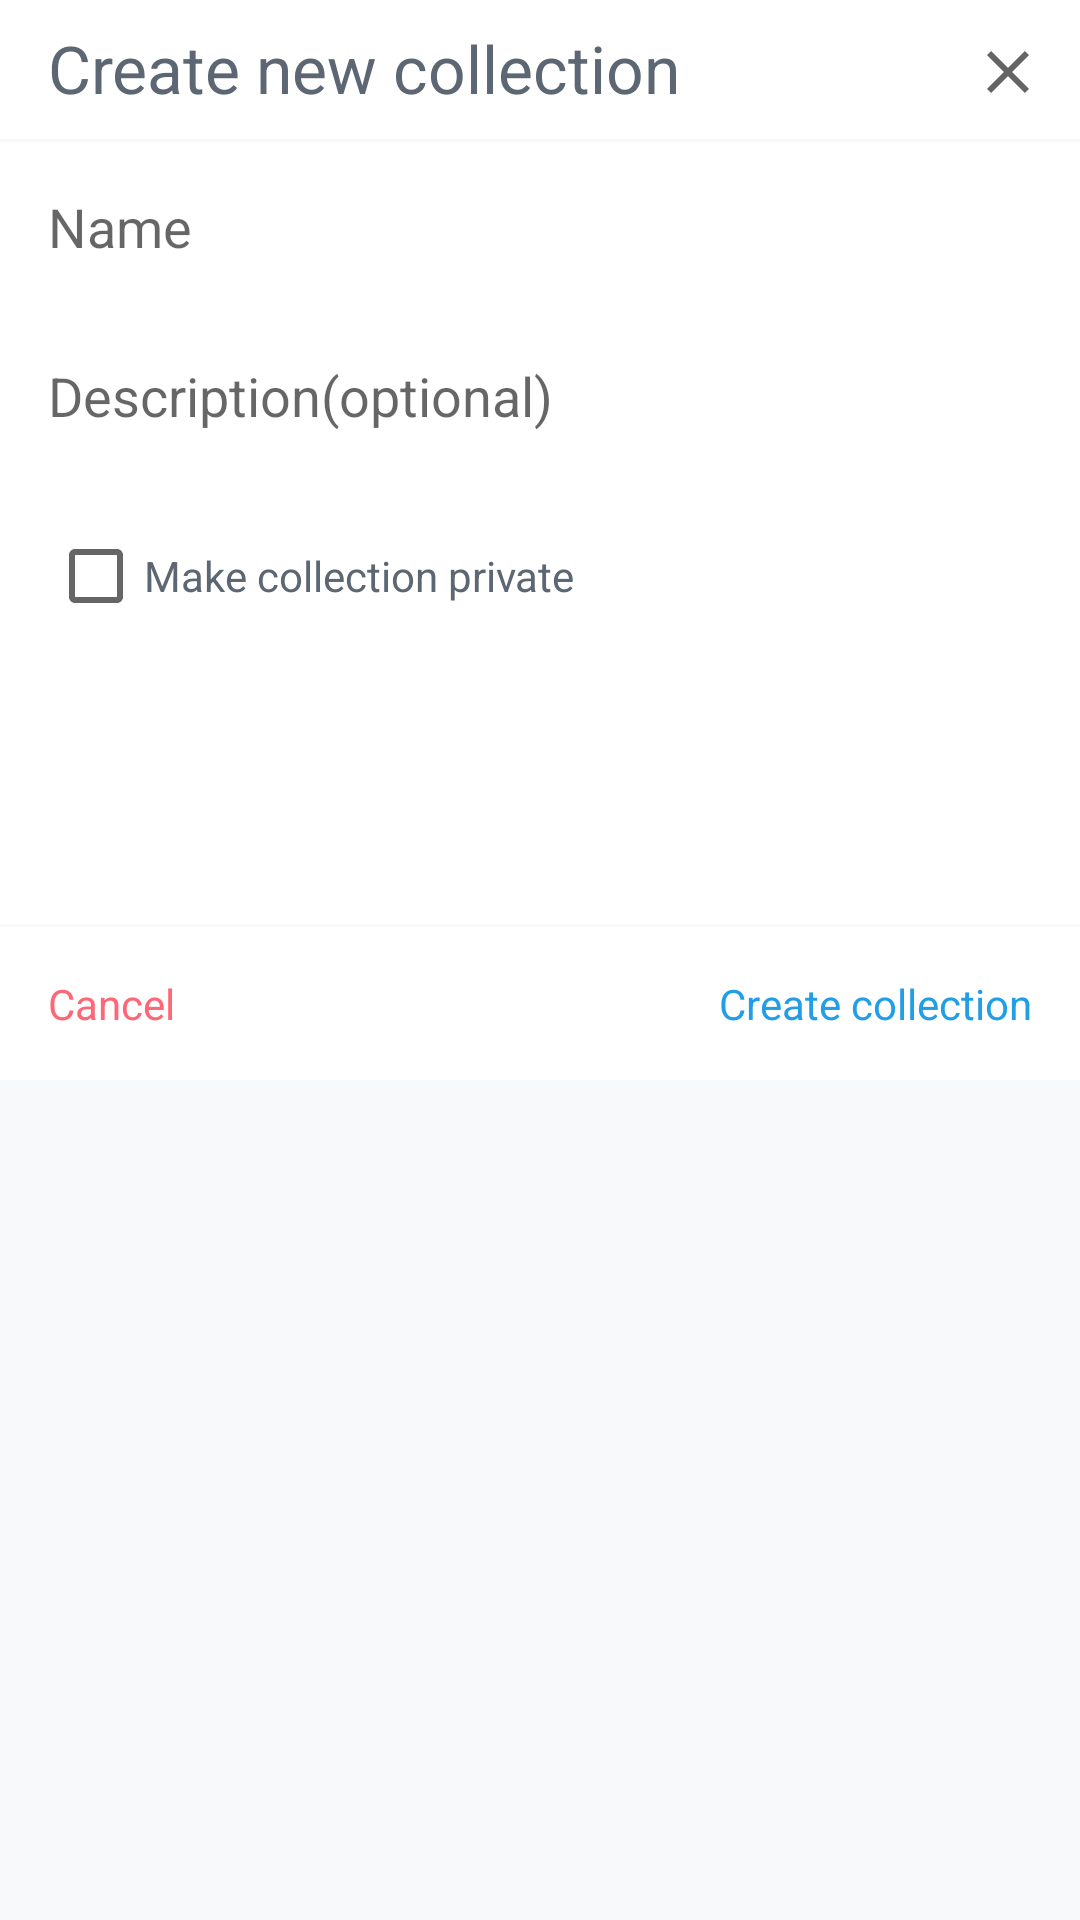

Icon bounding boxes for this 1080 x 1920 phone screenshot, format box(x1, y1, x2, y2):
clear: box(987, 51, 1029, 93)
